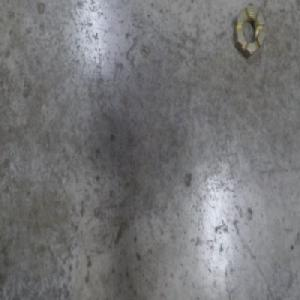Nut: (232, 5, 266, 64)
